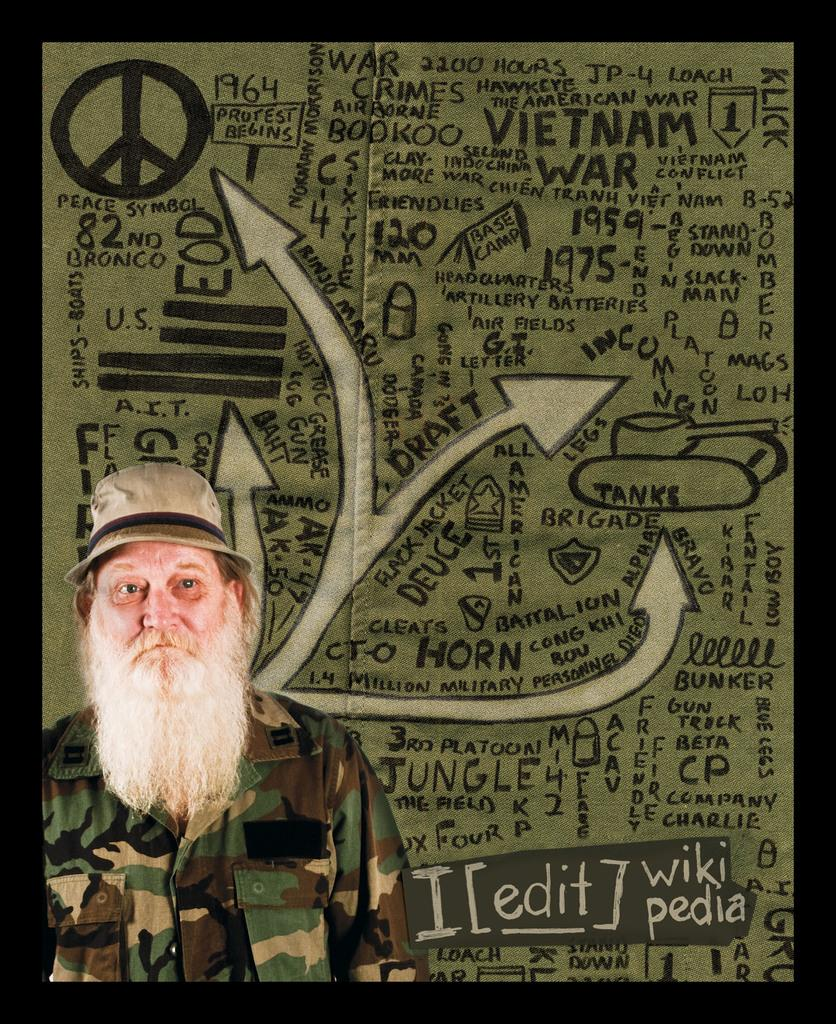Hat: (63, 464, 252, 582)
